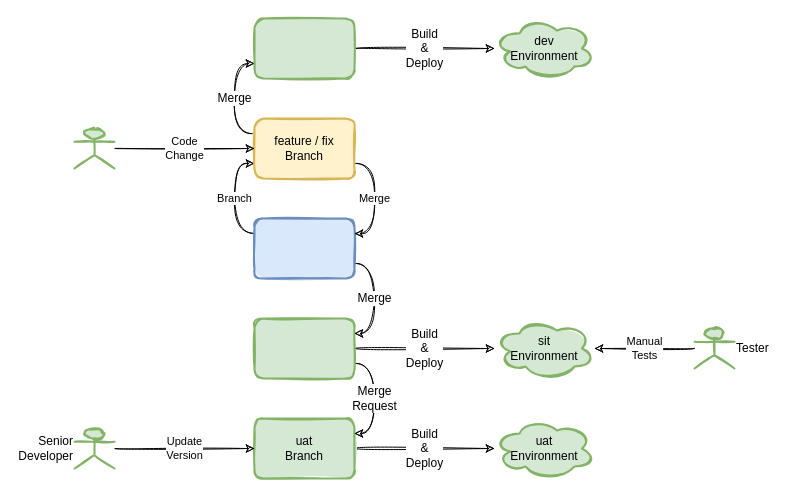
Image size: 786x496. Some labels were removed from this diagram. Each missing label, with the box of its shape:
dev Branch: (253, 17, 355, 79)
Developer: (73, 127, 115, 169)
main Branch: (253, 217, 355, 279)
sit Branch: (253, 317, 355, 379)
